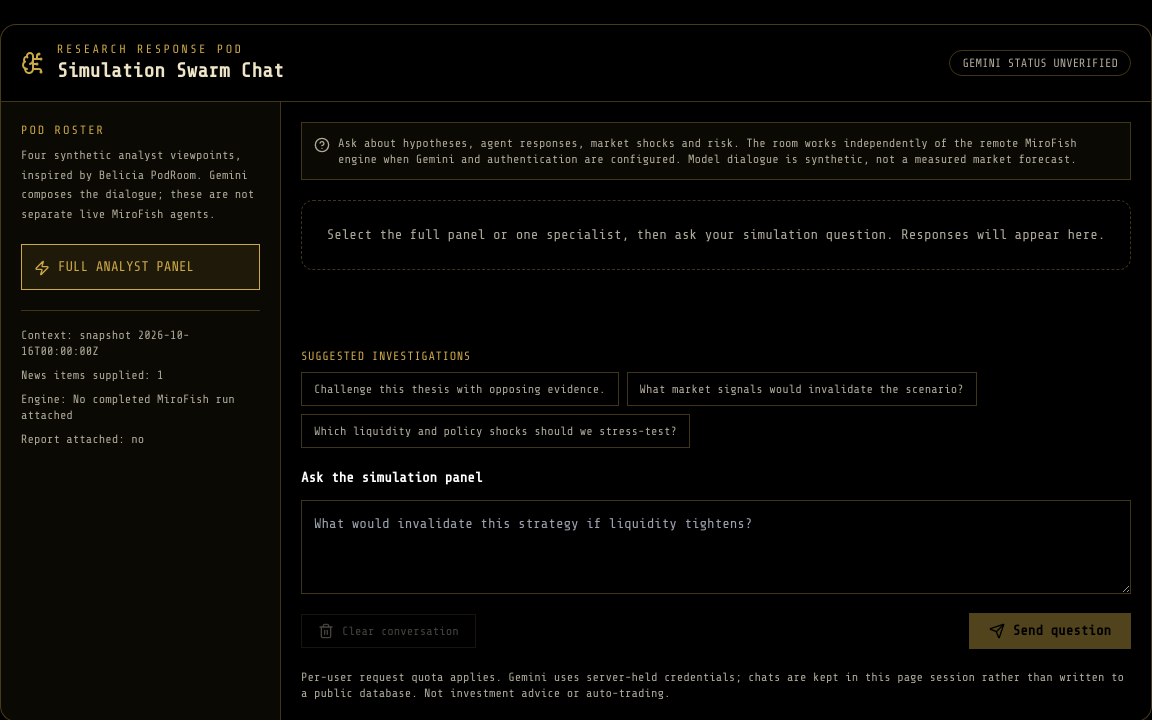
Test: simulation conversation room › reports provider errors without inventing a response
The width and height of the screenshot is (1152, 720).
Type "Test the scenario" into the text box labelled "Ask the simulation panel". click: (716, 547)
box: top-left (301, 500), bottom-right (1131, 594)
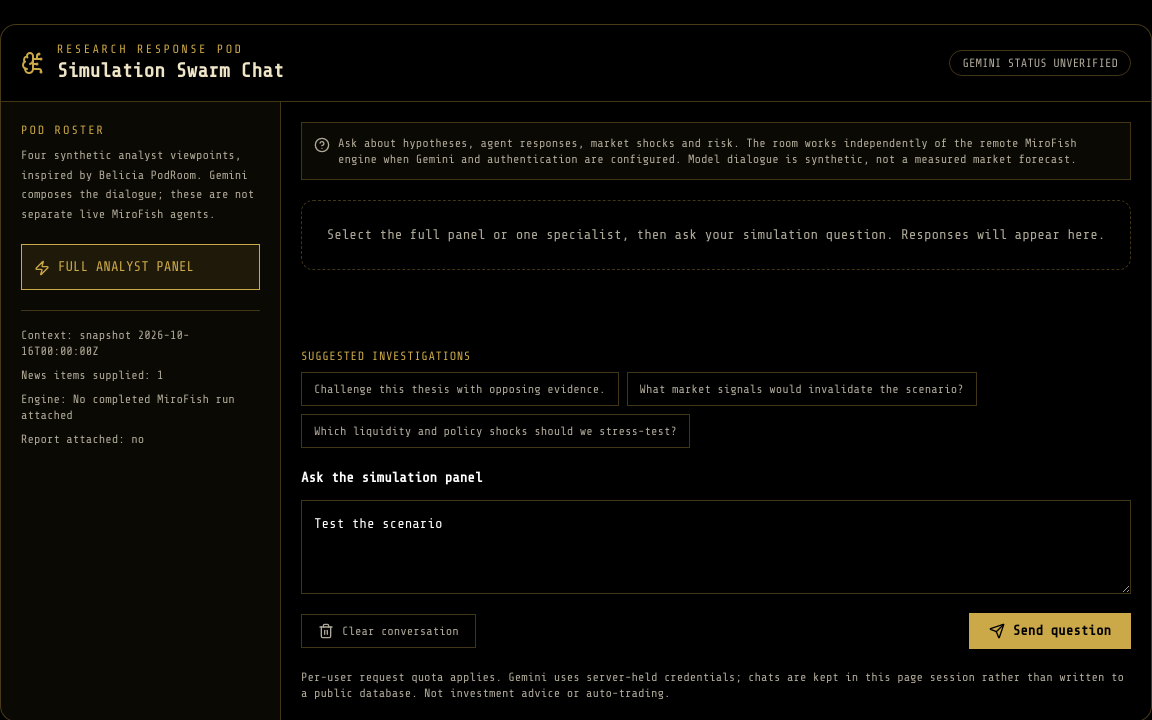
Click the button "Send question". click: (1050, 631)
box: top-left (969, 613), bottom-right (1131, 649)
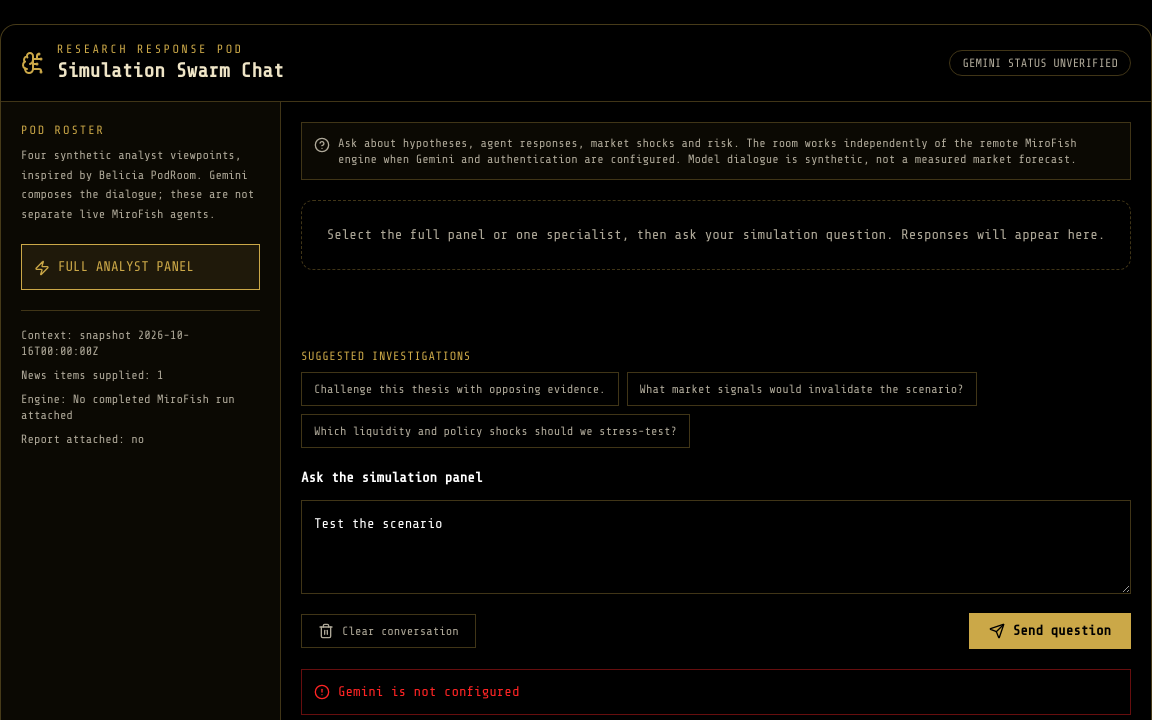
Expected: the message "Gemini is not configured" is shown, top-left (301, 669), bottom-right (1131, 715)
